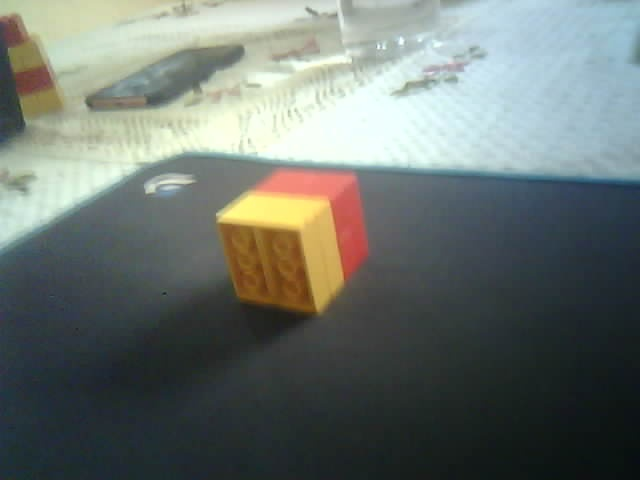lego: (214, 166, 372, 318), (1, 13, 65, 121)
